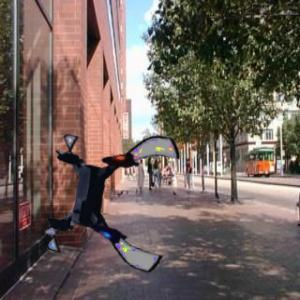drone: (44, 126, 185, 267)
